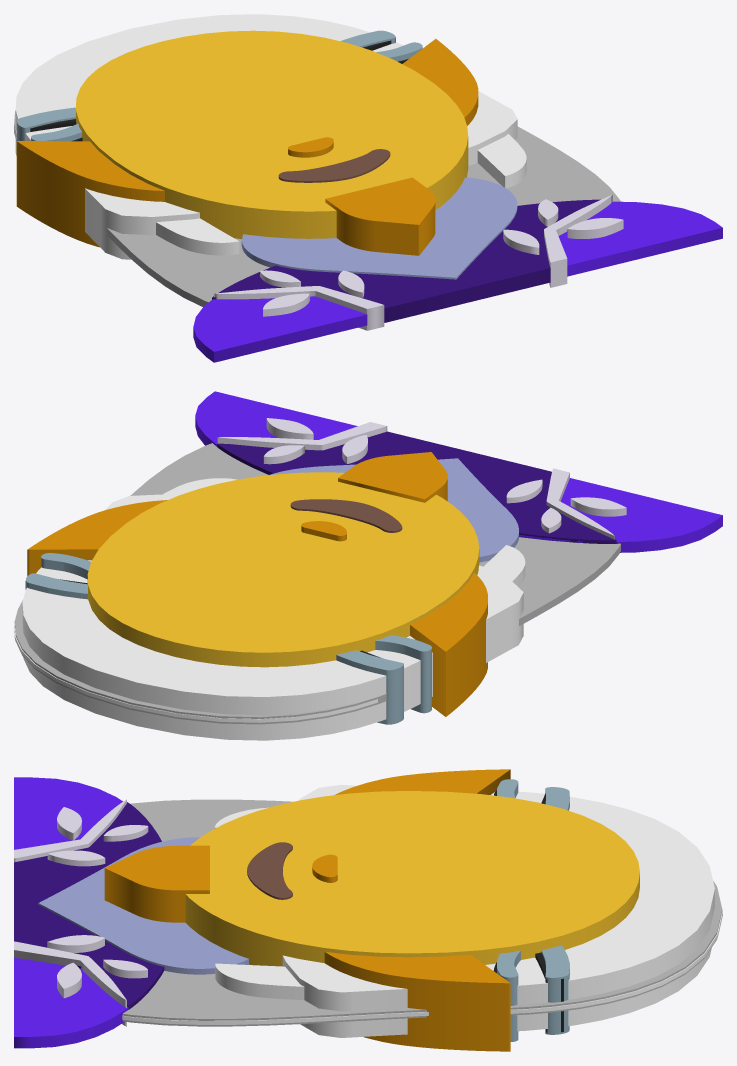
File: emoji_u1f9dd_200d_2640.glb
3 views of the same model, one above another, from view 1: azimuth 30°, elevation 25°; view 2: azimuth 150°, elevation 25°; view 3: azimuth 270°, elevation 25° (orthographic). The views are drawn at different scales.
Visible parts, largest first — view 1: emoji_u1f9dd_200d_2640; view 2: emoji_u1f9dd_200d_2640; view 3: emoji_u1f9dd_200d_2640.
Part boxes in pixels (x1,y1,x2,y2): emoji_u1f9dd_200d_2640: [14, 14, 722, 362]; emoji_u1f9dd_200d_2640: [14, 391, 722, 740]; emoji_u1f9dd_200d_2640: [14, 769, 722, 1051].
Size of the model in its own units: 0.0293 by 0.0046 by 0.0338.
